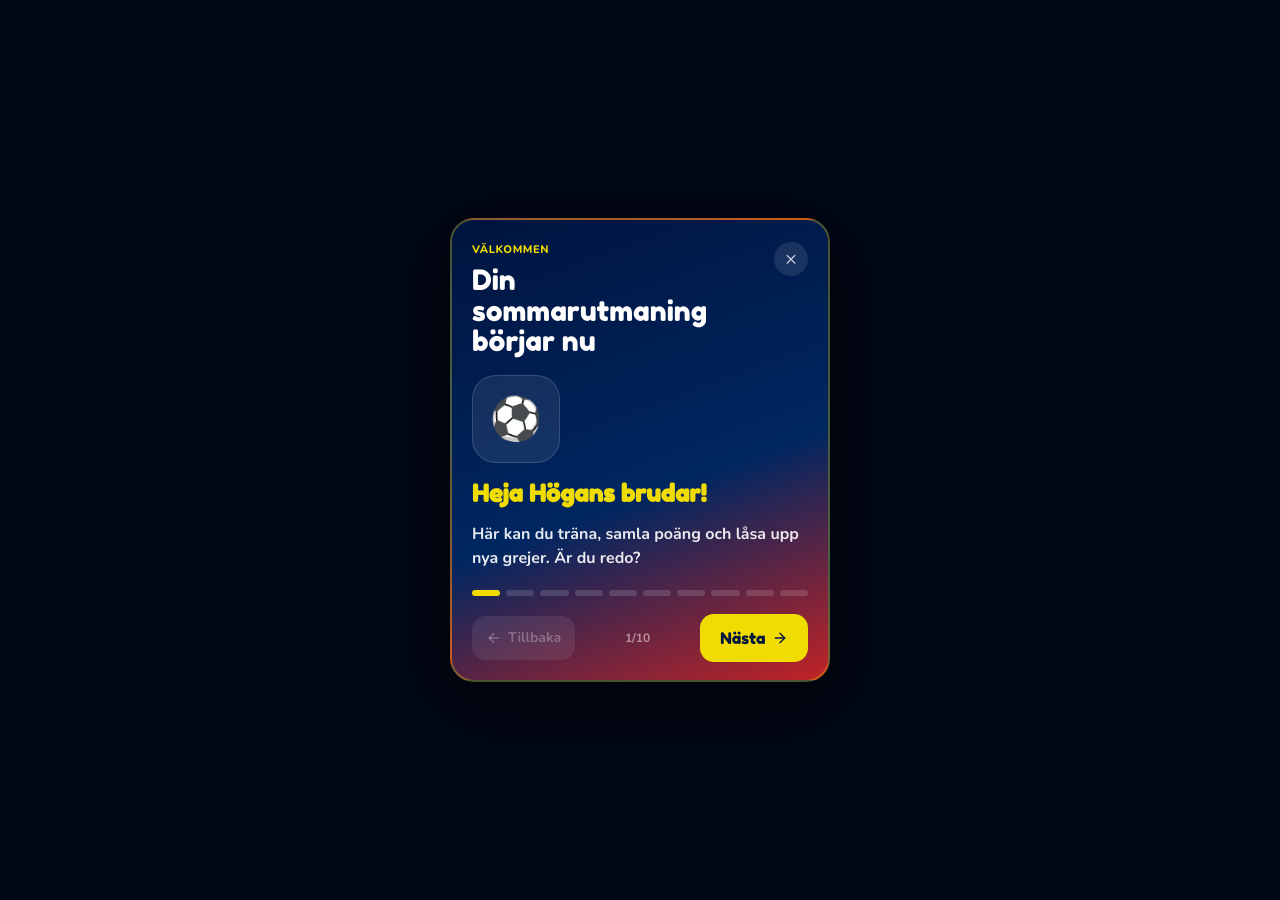
Test: IntroCarousel swipe navigation › advances to the next page on a left swipe
Expected: the text "1/10" is shown, [625,630,650,646]
Press the mouse on the button at (640, 450), box [0,0,1279,899]
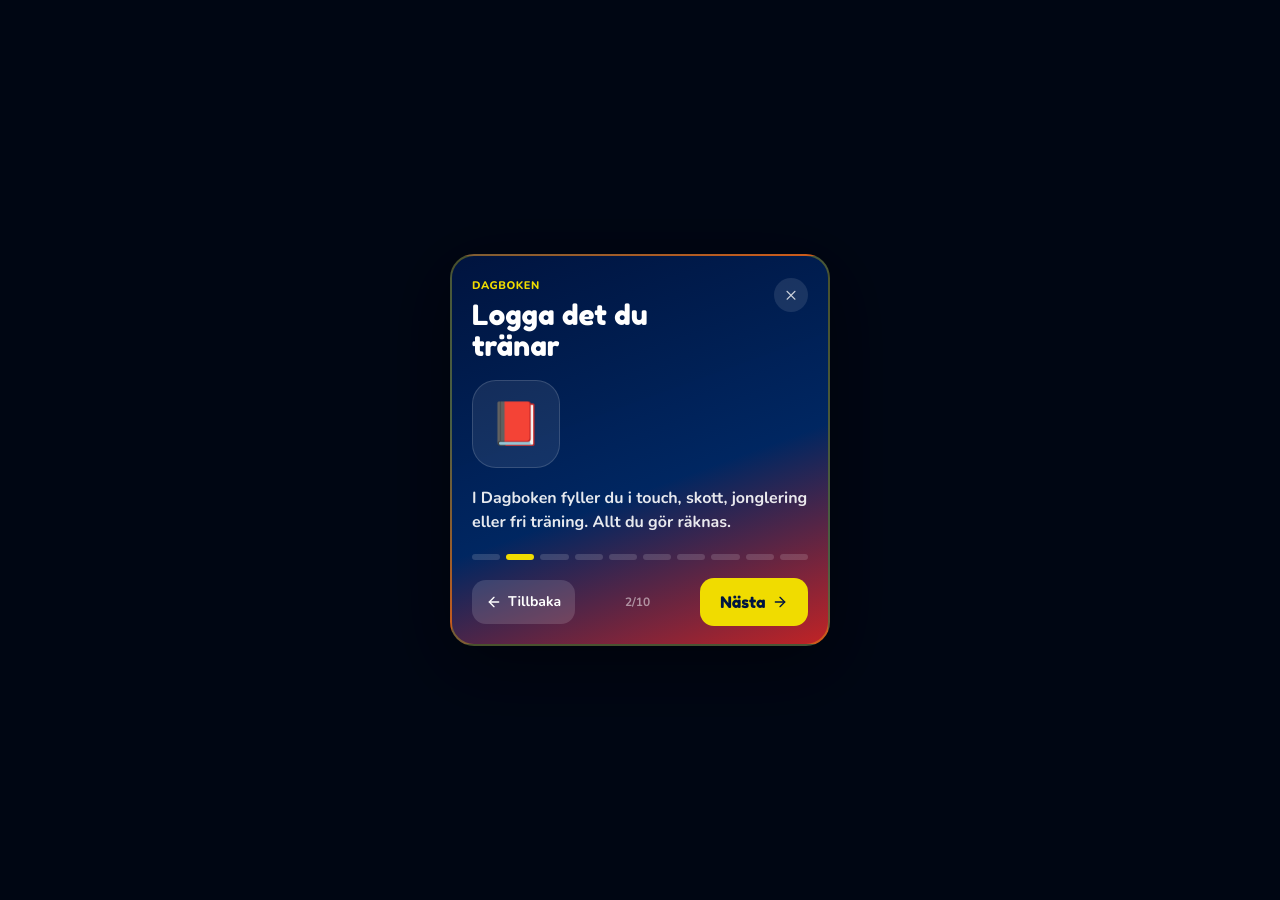
Now the text "2/10" is shown, box [625,594,650,610]
